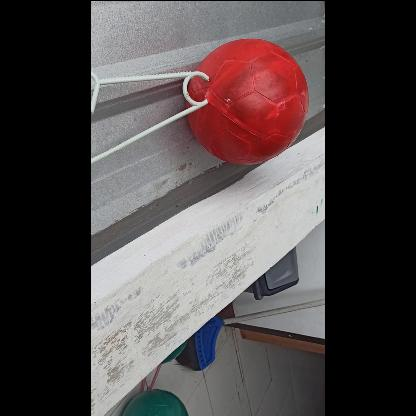red_ball: (186, 36, 310, 162)
